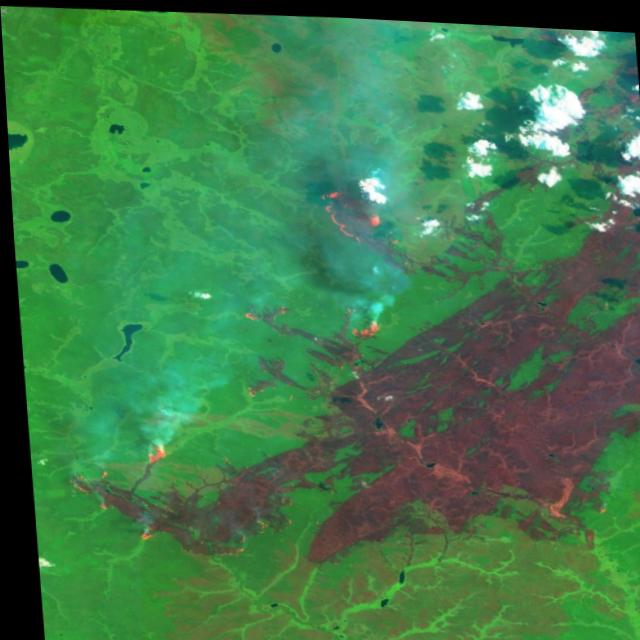fire: (312, 185, 389, 243), (59, 465, 110, 512), (227, 297, 293, 324), (337, 308, 383, 342), (129, 431, 168, 470), (228, 371, 270, 401), (120, 515, 158, 544)
